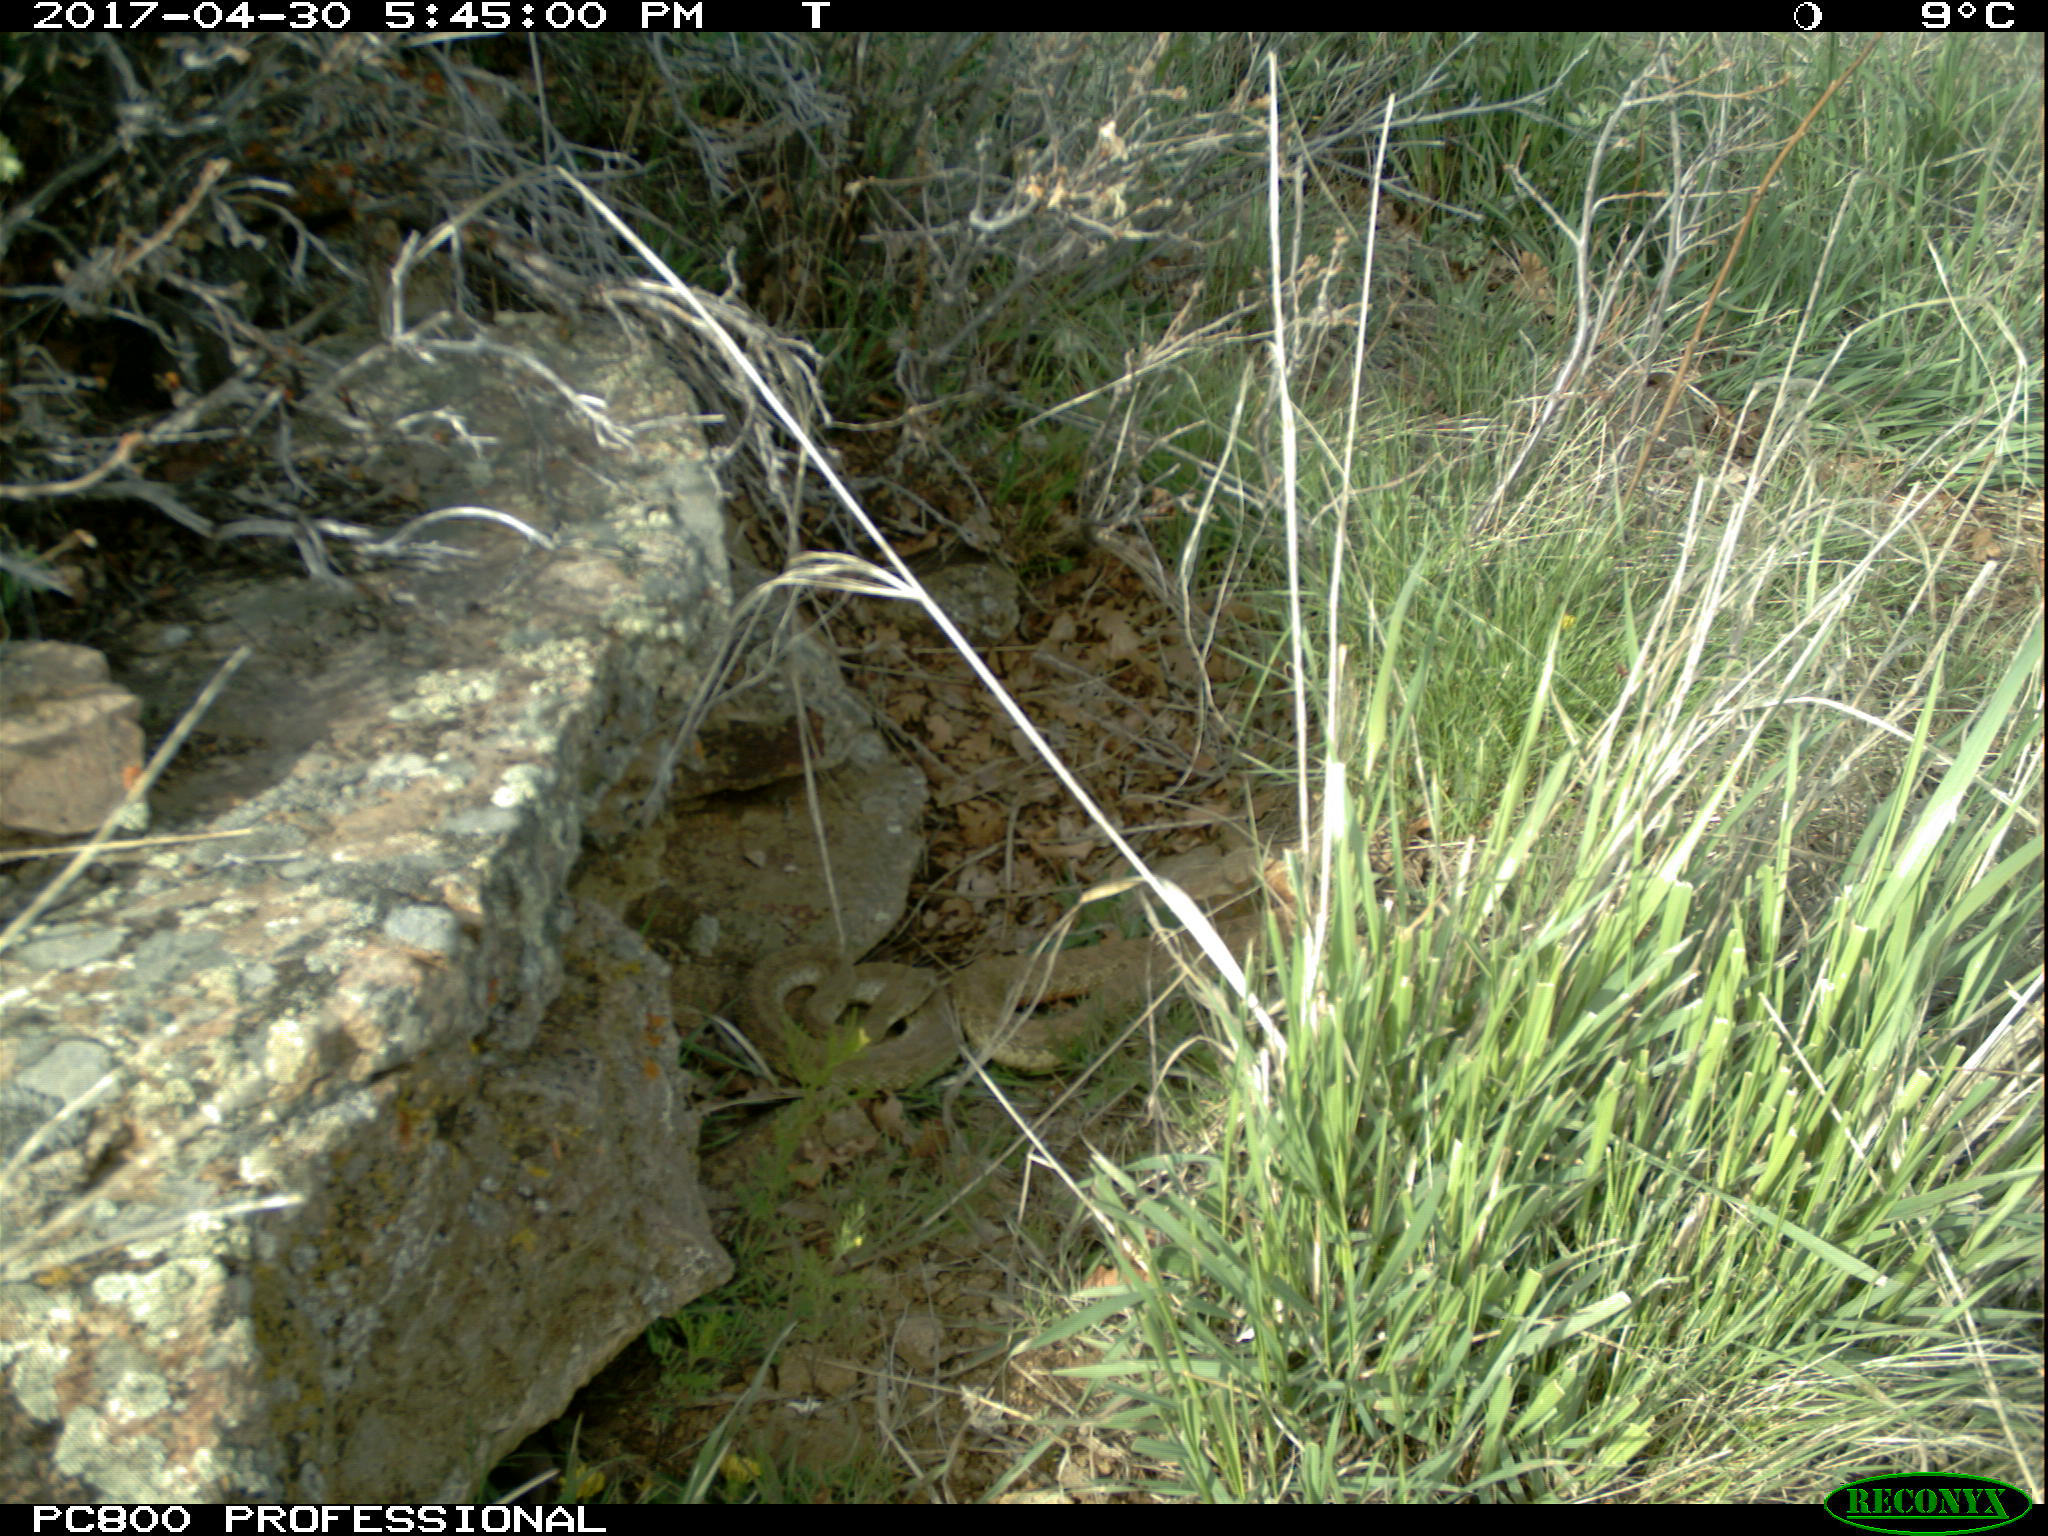snake: (727, 928, 1205, 1104)
